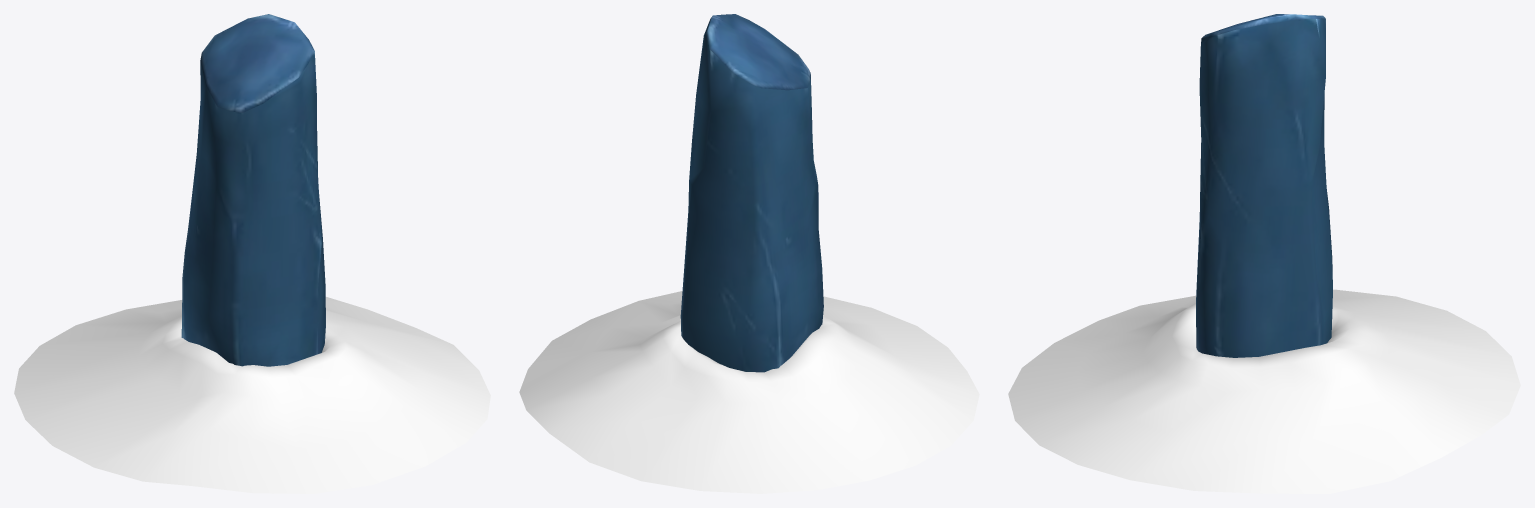
File: crystal2b.glb
3 views of the same model, side by side, from view 1: azimuth 30°, elevation 25°; view 2: azimuth 150°, elevation 25°; view 3: azimuth 270°, elevation 25° (orthographic). The views are drawn at different scales.
Visible parts, largest first — view 1: crystalbase, crystal2b_LOD0; view 2: crystalbase, crystal2b_LOD0; view 3: crystalbase, crystal2b_LOD0.
Boxes of the visible parts, left/top/right/bottom form: crystalbase: left=14, top=297, right=490, bottom=493; crystal2b_LOD0: left=181, top=14, right=325, bottom=366; crystalbase: left=519, top=291, right=979, bottom=493; crystal2b_LOD0: left=680, top=14, right=823, bottom=372; crystalbase: left=1008, top=289, right=1520, bottom=493; crystal2b_LOD0: left=1196, top=14, right=1332, bottom=357.
Bounding box in the file's own units: 2.81 × 2.47 × 2.9.
2 materials, 1 textured.
